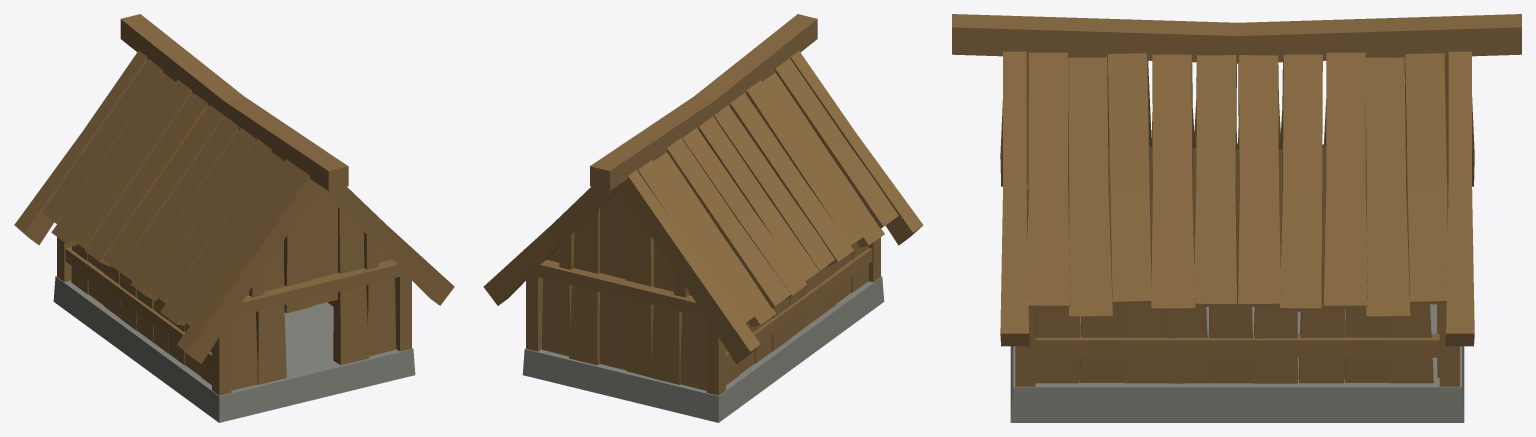
Rendered from House.glb.
The picture shows the model from 3 angles, left to right: view 1: azimuth 30°, elevation 25°; view 2: azimuth 150°, elevation 25°; view 3: azimuth 270°, elevation 25°; orthographic projection. The views are drawn at different scales.
Parts seen in each view (by area): view 1: House; view 2: House; view 3: House.
Part boxes in pixels (left/top/right/bottom): House: left=14, top=14, right=454, bottom=422; House: left=483, top=14, right=923, bottom=422; House: left=952, top=14, right=1521, bottom=422.
Size of the model in its own units: 0.8693 by 0.7645 by 1.17.
